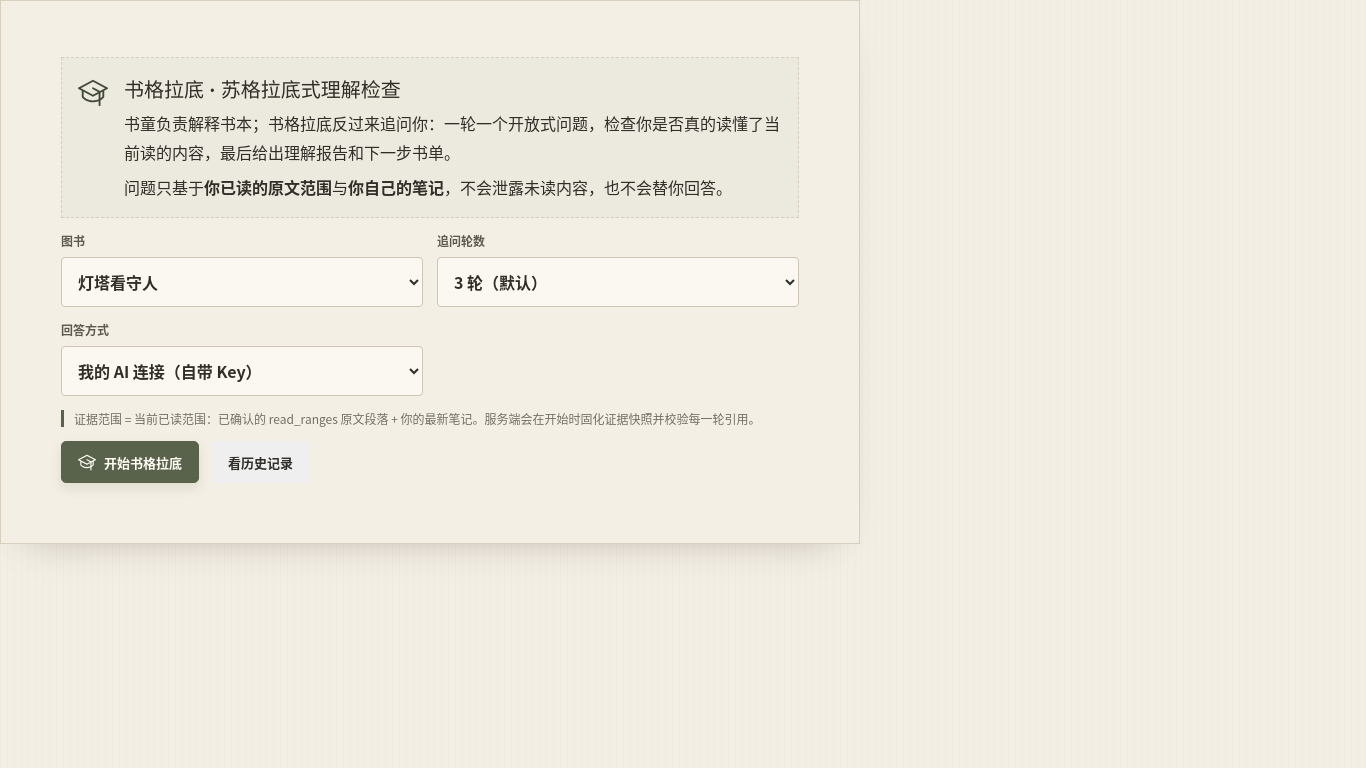
Test case: SocraticSession › 提交回答失败时保留输入内容
Click the button "开始书格拉底": (130, 462) [61,441,199,483]
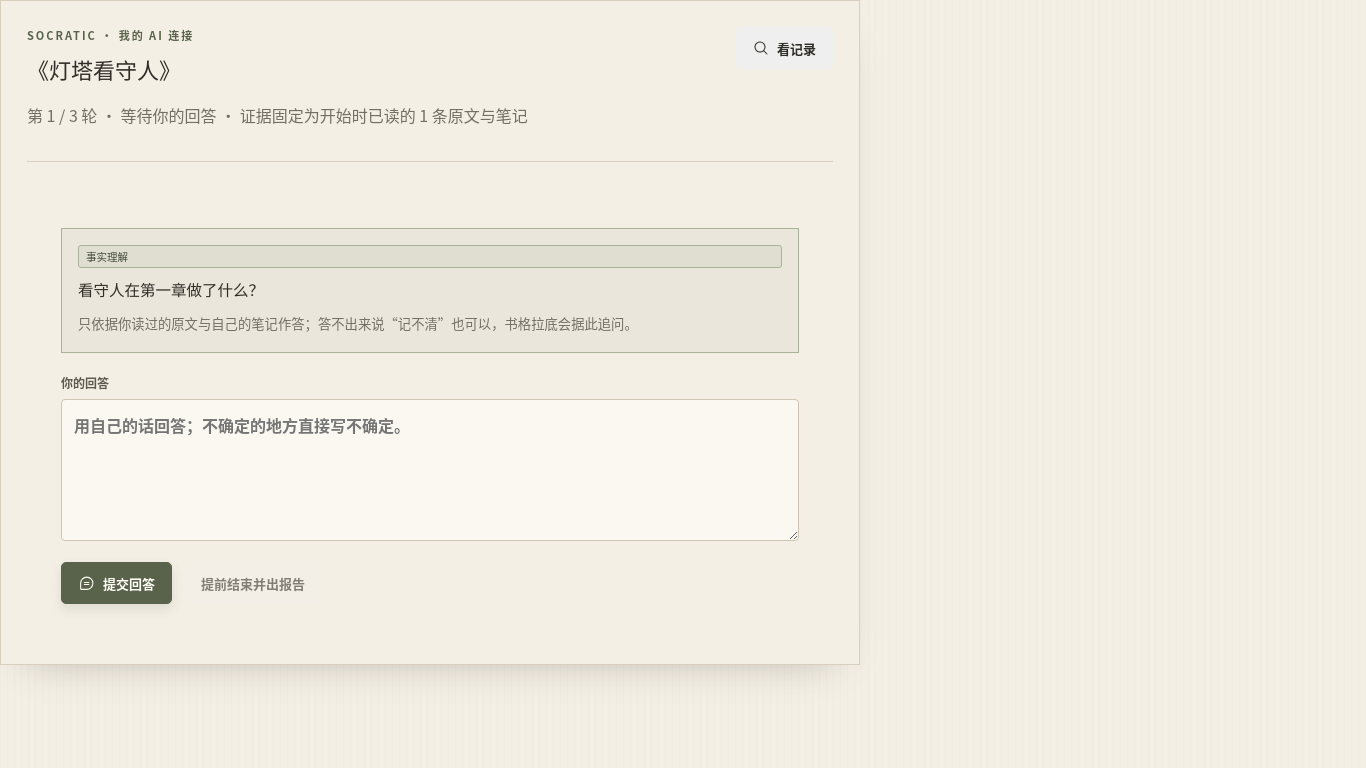
Now the text "看守人在第一章做了什么？" is shown, box [78,282,264,299]
In the text box labelled "你的回答": (430, 470) [61,399,799,542], type "我写了一半的答案"
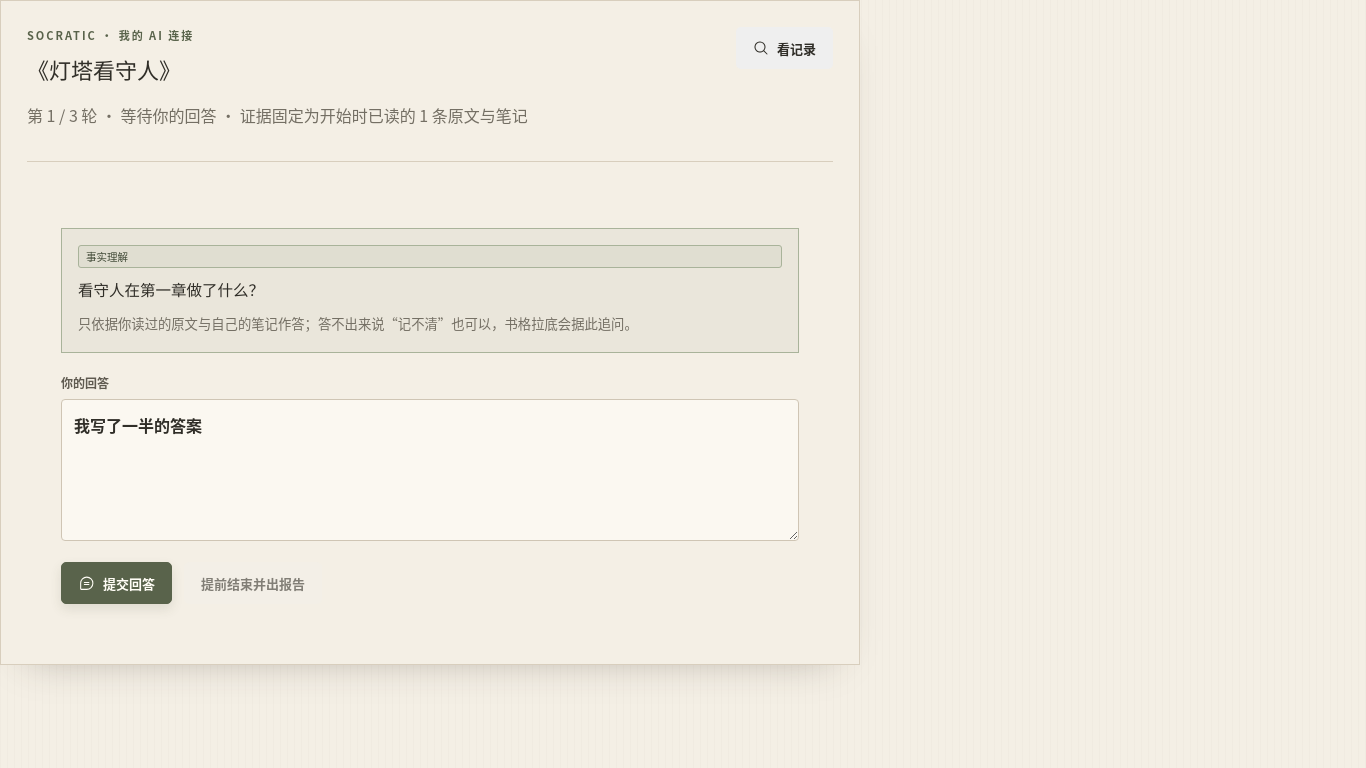
Click the button "提交回答": (116, 584) [61,562,172,604]
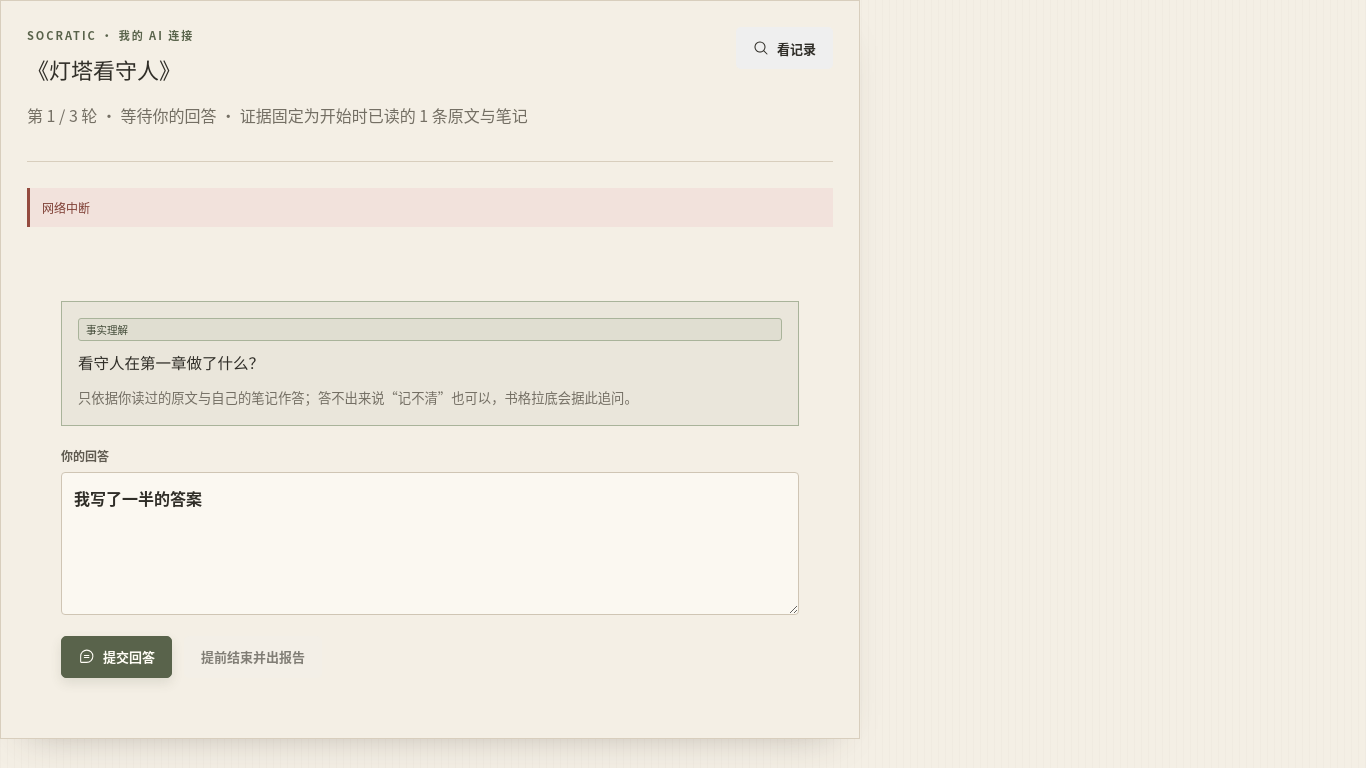
Now the message "网络中断" is shown, box [27,188,833,227]
